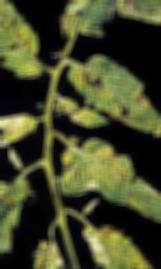Tomato Septoria leaf spot: (53, 136, 161, 230), (69, 53, 161, 143), (0, 166, 40, 269), (0, 0, 46, 80), (79, 226, 161, 269), (100, 0, 161, 30)
